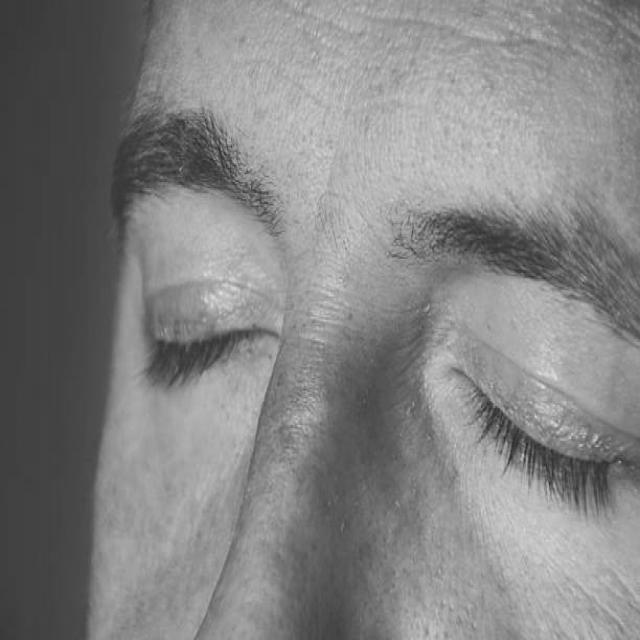real: (85, 0, 640, 640), (102, 92, 640, 525)
